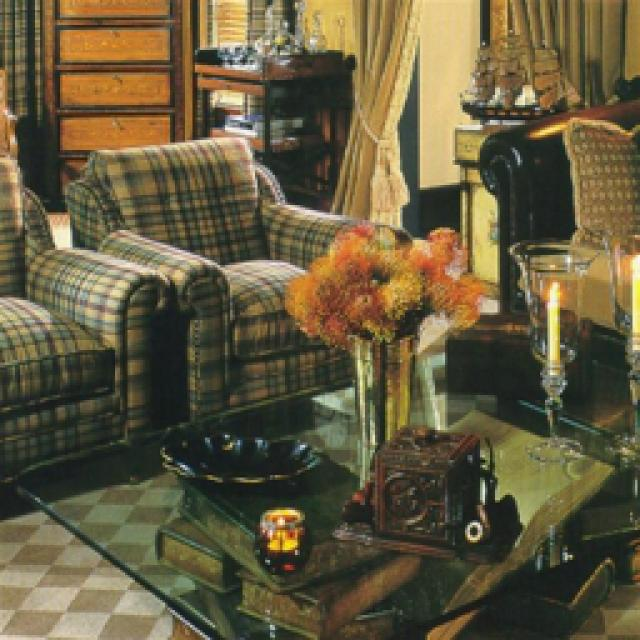armchair crop: (60, 135, 375, 422), (0, 156, 162, 476), (475, 90, 635, 388)
ashtray: (160, 435, 318, 492)
book case: (175, 442, 392, 590), (235, 535, 418, 632), (150, 515, 240, 590)
books crop: (208, 105, 302, 152)
bottles occluded: (252, 0, 322, 62)
bouquet: (280, 220, 495, 485)
box contants: (440, 310, 590, 400)
cabinet door: (448, 115, 528, 280)
cabinets: (35, 0, 200, 202)
candle holder: (510, 235, 600, 458), (600, 235, 635, 455)
cart: (188, 40, 355, 210)
curtain crop: (328, 0, 422, 215), (508, 0, 635, 102)
decorative boat: (455, 30, 580, 120)
decorative box -X: (332, 422, 520, 558)
glasses -X: (215, 40, 245, 65)
pillow occluded: (565, 120, 635, 235)
small table part: (12, 380, 635, 635)
small vase: (252, 508, 308, 570)
